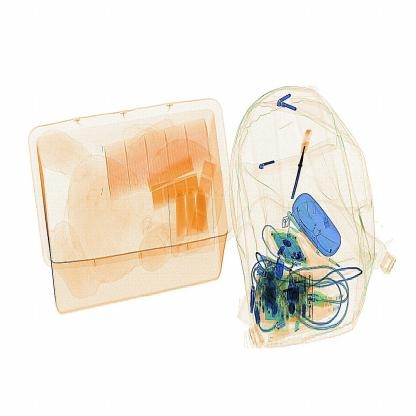gun: (290, 126, 312, 206)
